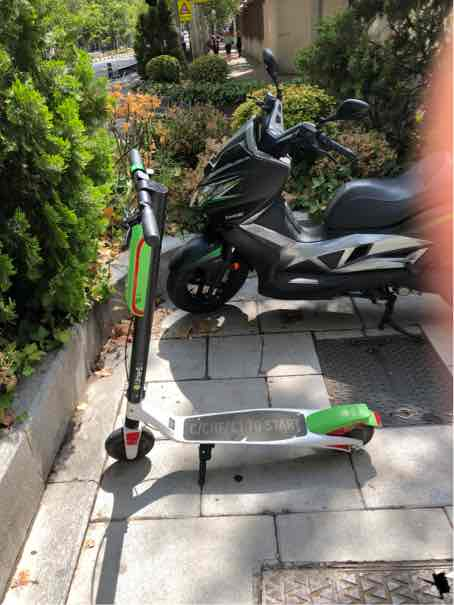scooter: (94, 137, 390, 481)
